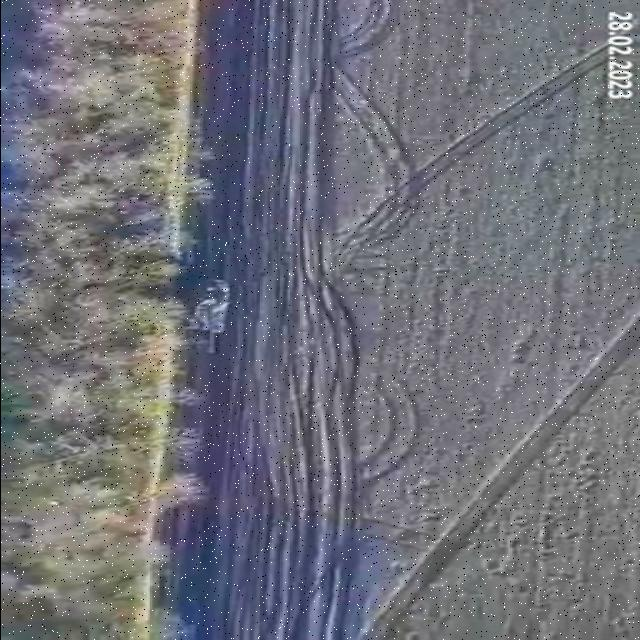ART: (178, 274, 238, 352)
